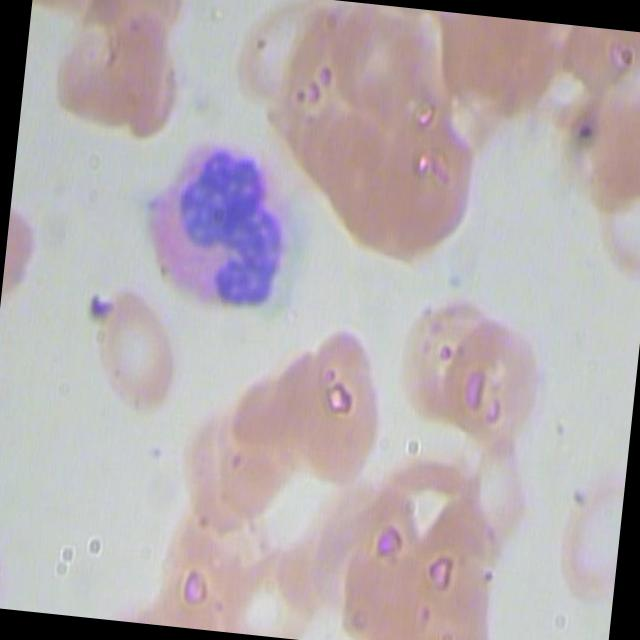RBC: (356, 102, 486, 261), (313, 492, 443, 640), (70, 280, 194, 428), (286, 314, 393, 484), (429, 303, 552, 450), (380, 282, 503, 429), (443, 417, 566, 564), (84, 2, 194, 158), (317, 0, 446, 131), (143, 501, 264, 633), (258, 321, 344, 487), (223, 350, 309, 516), (196, 370, 282, 536), (166, 372, 252, 538), (545, 70, 640, 211), (219, 0, 324, 115), (546, 466, 624, 610), (573, 144, 640, 279)
WBC: (128, 125, 298, 329)
